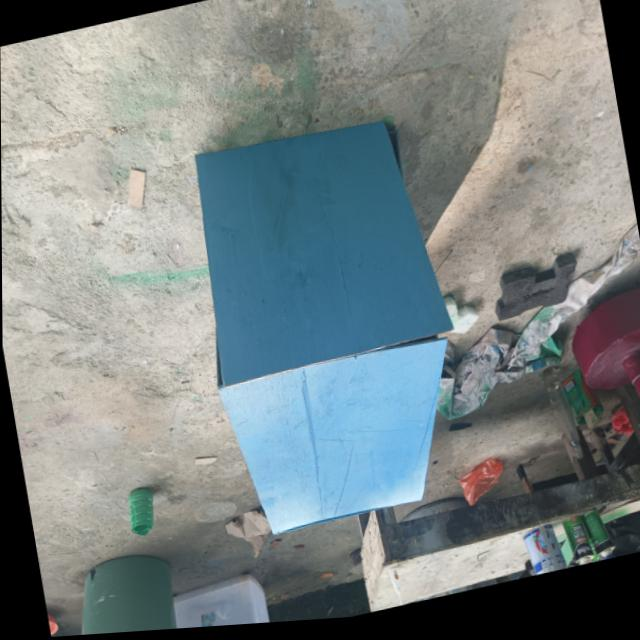blue_box: (180, 114, 479, 552)
